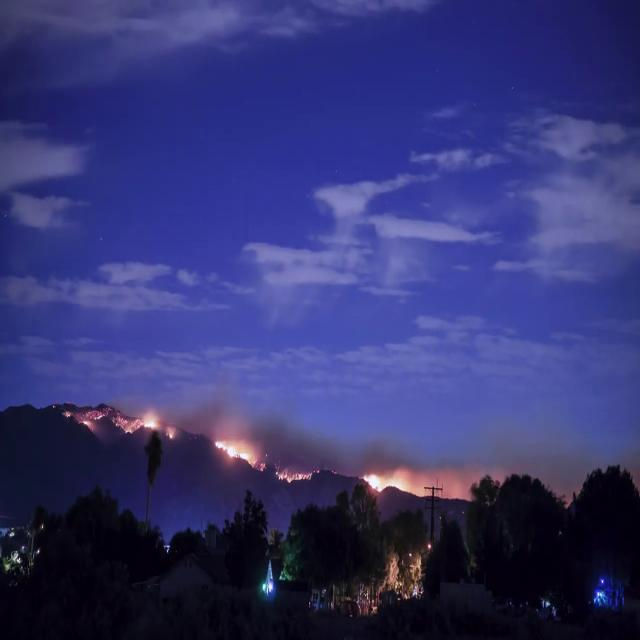Fire: (362, 464, 422, 496), (216, 436, 266, 472), (62, 396, 110, 433), (114, 407, 159, 439), (280, 466, 312, 486), (166, 424, 176, 438)
Smoke: (263, 413, 344, 468), (546, 449, 640, 493), (176, 382, 224, 441), (360, 434, 418, 464)
